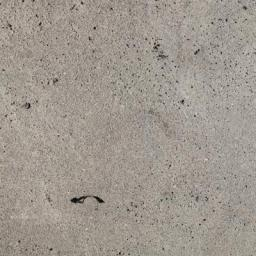FOD: (67, 193, 107, 209)
